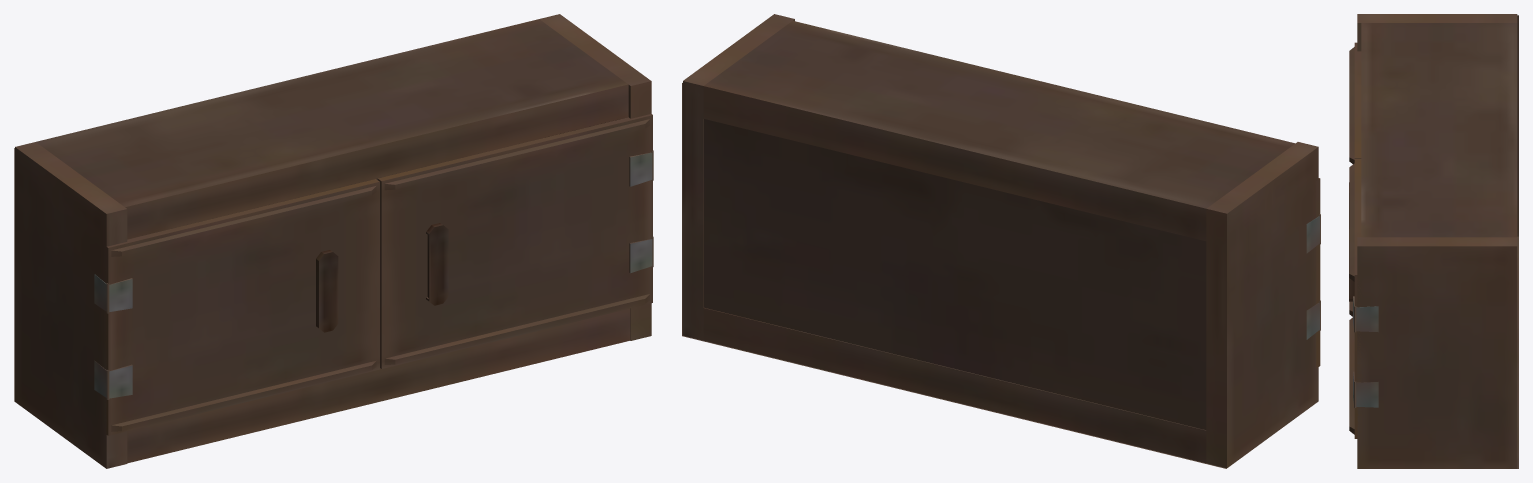
Rendered from SM_cup_board_04_137ae8.glb.
3 renders of one model, left to right at view 1: azimuth 30°, elevation 25°; view 2: azimuth 150°, elevation 25°; view 3: azimuth 270°, elevation 25°, orthographic. The views are drawn at different scales.
Bounding box in the file's own units: 1.97 × 0.8768 × 0.6054.
Materials: 1 (1 with a texture image).
